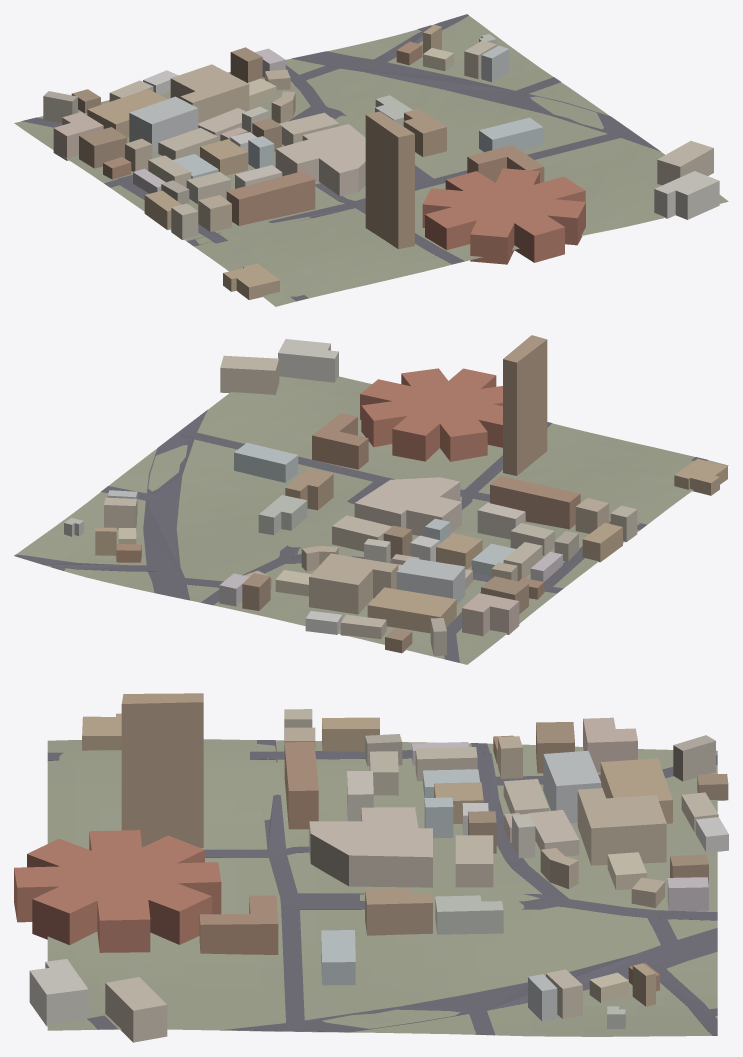
Rendered from chunk_8_6.glb.
3 views of the same model, one above another, from view 1: azimuth 30°, elevation 25°; view 2: azimuth 150°, elevation 25°; view 3: azimuth 270°, elevation 25° (orthographic). The views are drawn at different scales.
Parts seen in each view (by area): view 1: geometry_51, geometry_0, geometry_15, geometry_1, geometry_60, geometry_10, geometry_42, geometry_49, geometry_5, geometry_54, geometry_4, geometry_6 (+36 smaller); view 2: geometry_51, geometry_0, geometry_15, geometry_60, geometry_1, geometry_42, geometry_10, geometry_50, geometry_2, geometry_49, geometry_5, geometry_4 (+33 smaller); view 3: geometry_51, geometry_0, geometry_15, geometry_1, geometry_60, geometry_42, geometry_54, geometry_2, geometry_5, geometry_4, geometry_7, geometry_49 (+44 smaller).
Boxes of the visible parts, left/top/right/bottom form: geometry_51: left=14, top=15, right=728, bottom=306; geometry_0: left=422, top=168, right=585, bottom=264; geometry_15: left=365, top=111, right=414, bottom=249; geometry_1: left=275, top=124, right=365, bottom=196; geometry_60: left=291, top=51, right=660, bottom=151; geometry_10: left=226, top=171, right=315, bottom=225; geometry_42: left=170, top=64, right=249, bottom=123; geometry_49: left=129, top=96, right=198, bottom=152; geometry_5: left=654, top=171, right=719, bottom=219; geometry_54: left=187, top=130, right=630, bottom=246; geometry_4: left=657, top=141, right=713, bottom=185; geometry_6: left=479, top=117, right=543, bottom=151; geometry_51: left=14, top=376, right=728, bottom=664; geometry_0: left=360, top=368, right=502, bottom=461; geometry_15: left=503, top=335, right=547, bottom=475; geometry_60: left=143, top=410, right=207, bottom=600; geometry_1: left=354, top=477, right=461, bottom=536; geometry_42: left=309, top=553, right=398, bottom=614; geometry_10: left=490, top=476, right=580, bottom=529; geometry_50: left=367, top=587, right=456, bottom=633; geometry_2: left=312, top=413, right=368, bottom=469; geometry_49: left=396, top=557, right=465, bottom=605; geometry_5: left=278, top=339, right=338, bottom=382; geometry_4: left=220, top=355, right=279, bottom=394; geometry_51: left=47, top=739, right=717, bottom=1036; geometry_0: left=14, top=830, right=221, bottom=952; geometry_15: left=121, top=693, right=203, bottom=847; geometry_1: left=309, top=807, right=432, bottom=887; geometry_60: left=221, top=928, right=717, bottom=1032; geometry_42: left=577, top=788, right=666, bottom=865; geometry_54: left=257, top=740, right=304, bottom=1028; geometry_2: left=199, top=895, right=278, bottom=954; geometry_5: left=29, top=959, right=88, bottom=1026; geometry_4: left=105, top=977, right=167, bottom=1042; geometry_7: left=365, top=888, right=432, bottom=935; geometry_49: left=543, top=750, right=601, bottom=823.
Bounding box in the file's own units: 270 × 65.43 × 267.
